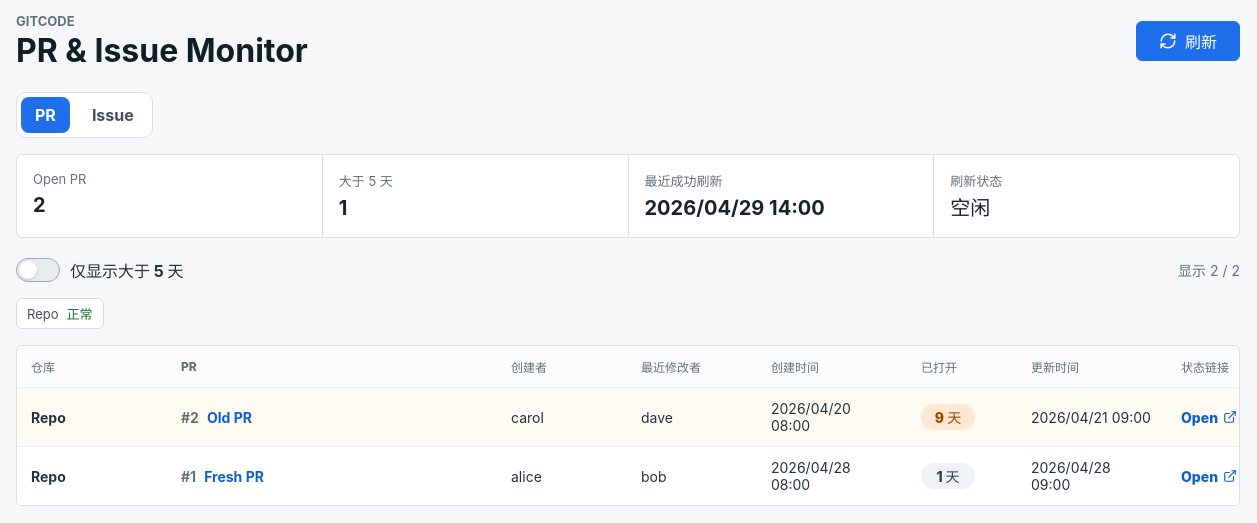
App › renders open PRs and filters PRs older than the stale threshold
Expected: the link "#1Fresh PR" is shown, [181,468,264,485]
Expected: the link "#2Old PR" is shown, [181,409,252,426]
Click the checkbox named "仅显示大于 5 天的 PR" at (100, 270), box [16,254,184,286]
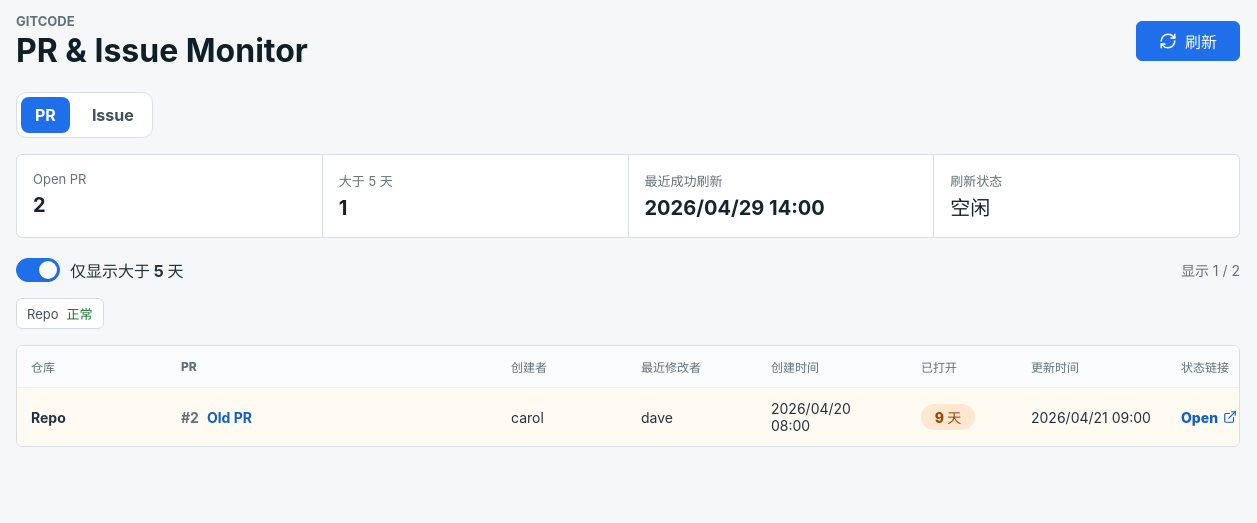
Expected: the link "#2Old PR" is shown, [181,409,252,426]
Result: the link "Fresh PR" is gone
